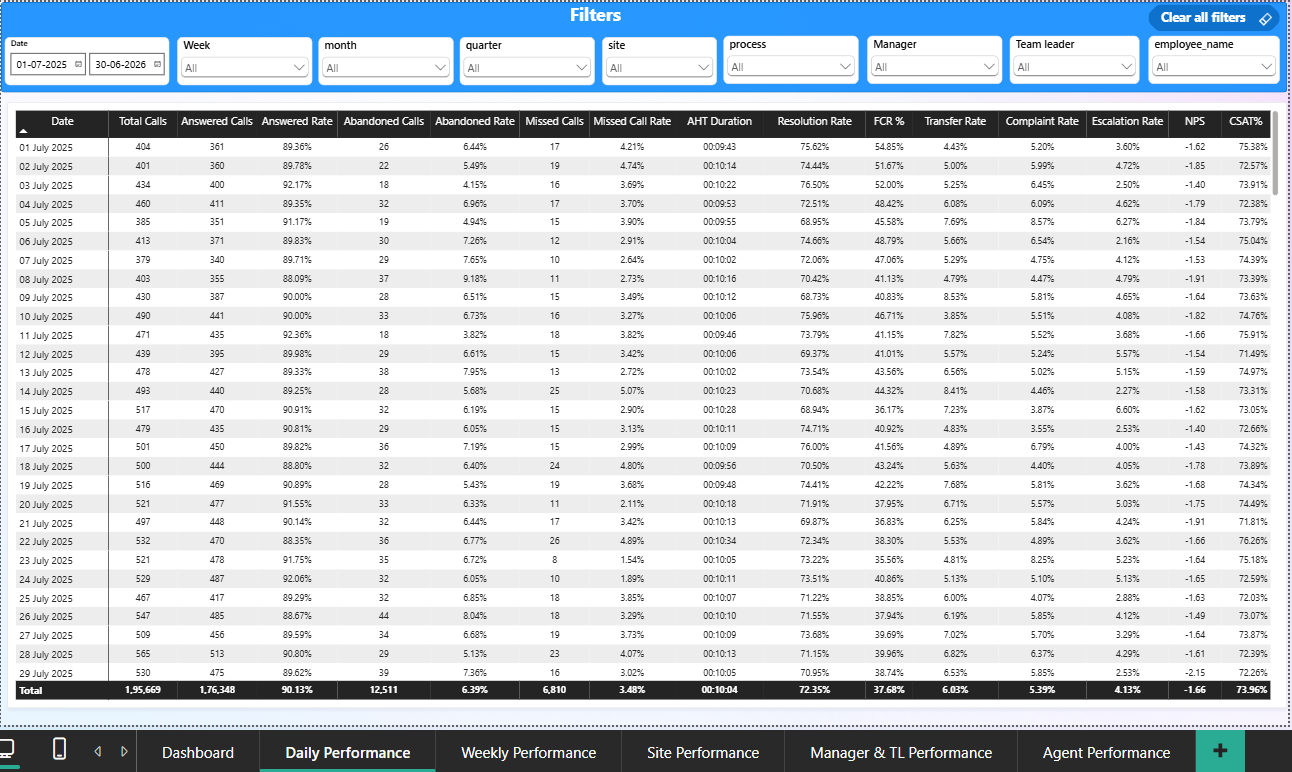

What the dashboard file says about the page in this screenshot:
{"tool":"powerbi","page":{"name":"Daily Performance","canvas":[1920,1080],"ordinal":1},"visuals":[{"type":"shape","box":[0,0,1920,135],"z":0},{"type":"pivotTable","fields":{"Values":["fact_calls.Total Calls","fact_calls.Answered Calls","fact_calls.Answer Rate","fact_calls.Abandoned Calls","fact_calls.Abandoned Rate","fact_calls.Missed Calls","fact_calls.Missed Call Rate","fact_calls.AHT Duration","fact_calls.Resolution Rate","fact_calls.FCR %","fact_calls.Transfer Rate","fact_calls.Complaint Rate"],"Rows":["calendar.full_date"]},"box":[9.5,150.2,1910.5,904.9],"z":1000},{"type":"slicer","fields":{"Values":["calendar.Week"]},"box":[262.3,51.3,201.5,72.2],"z":2000},{"type":"slicer","fields":{"Values":["calendar.Date"]},"box":[5.7,51.3,245.2,72.2],"z":3000},{"type":"slicer","fields":{"Values":["calendar.month_year"]},"box":[473.3,51.3,201.5,72.2],"z":4000},{"type":"slicer","fields":{"Values":["calendar.quarter"]},"box":[684.4,51.3,201.5,72.2],"z":5000},{"type":"slicer","fields":{"Values":["dim_employee.site"]},"box":[897.3,51.3,171.1,72.2],"z":6000},{"type":"slicer","fields":{"Values":["dim_employee.process"]},"box":[1077.9,51.3,201.5,72.2],"z":7000},{"type":"slicer","fields":{"Values":["dim_employee.manager_name"]},"box":[1292.7,51.3,201.5,72.2],"z":8000},{"type":"slicer","fields":{"Values":["dim_employee.team_leader_name"]},"box":[1505.6,51.3,193.9,72.2],"z":9000},{"type":"textbox","box":[849.7,0,127.4,43.7],"z":10000},{"type":"slicer","fields":{"Values":["dim_employee.employee_name"]},"box":[1712.8,51.3,195.8,72.2],"z":11000},{"type":"actionButton","box":[1712.8,3.8,195.8,39.9],"z":12000}]}

Visuals, with their boxes on the page's 1920x1080 design canvas (x1, y1, x2, y2). These are canvas units, not pixel positions in the 1292x772 screenshot, which may show the page scaled, cropped or inside an application window:
shape: <box>0,0,1920,135</box>
pivotTable - fact_calls.Total Calls x fact_calls.Answered Calls: <box>10,150,1920,1055</box>
slicer - calendar.Week: <box>262,51,464,124</box>
slicer - calendar.Date: <box>6,51,251,124</box>
slicer - calendar.month_year: <box>473,51,675,124</box>
slicer - calendar.quarter: <box>684,51,886,124</box>
slicer - dim_employee.site: <box>897,51,1068,124</box>
slicer - dim_employee.process: <box>1078,51,1279,124</box>
slicer - dim_employee.manager_name: <box>1293,51,1494,124</box>
slicer - dim_employee.team_leader_name: <box>1506,51,1700,124</box>
textbox: <box>850,0,977,44</box>
slicer - dim_employee.employee_name: <box>1713,51,1909,124</box>
actionButton: <box>1713,4,1909,44</box>
